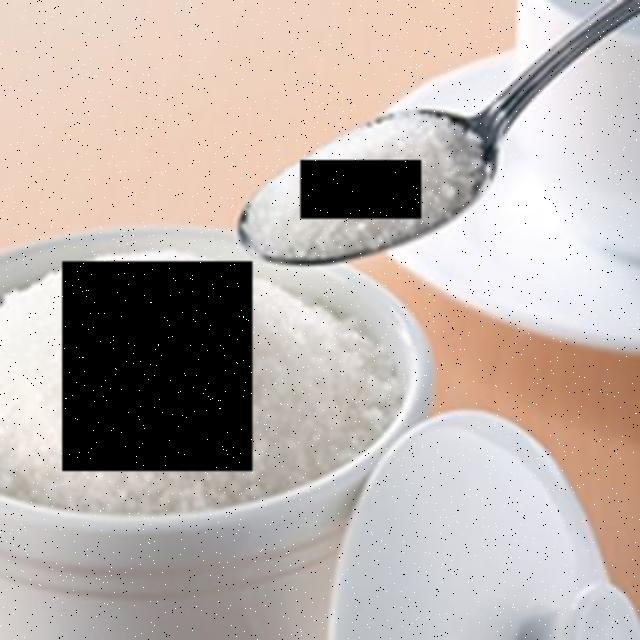Sugar: (62, 262, 252, 471), (300, 160, 422, 219)
